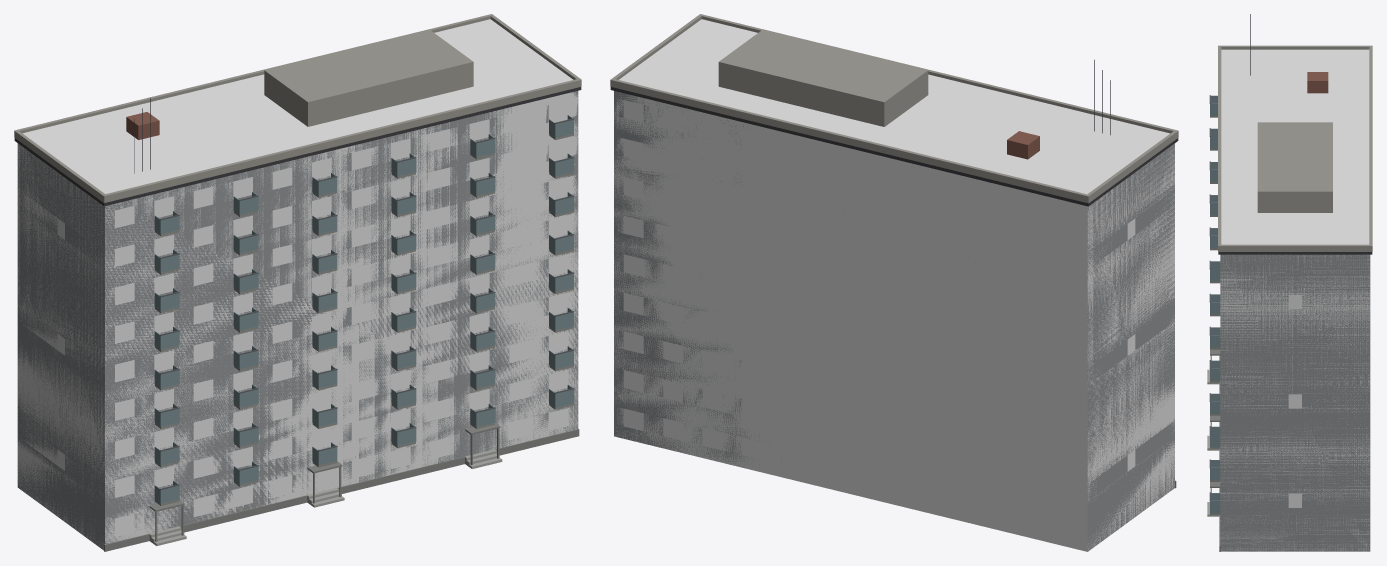
The model's file is panel9_b.glb.
3 views of the same model, side by side, from view 1: azimuth 30°, elevation 25°; view 2: azimuth 150°, elevation 25°; view 3: azimuth 270°, elevation 25° (orthographic). The views are drawn at different scales.
Visible parts, largest first — view 1: panel9_b-col, facade_front, facade_left, tech_floor, parapet_y, plinth, roof_slab, parapet_y.001, parapet_x, vent_stack; view 2: panel9_b-col, facade_left, facade_back, tech_floor, parapet_y.001, roof_slab, parapet_y, parapet_x, vent_stack; view 3: facade_right, panel9_b-col, tech_floor, parapet_x.001, parapet_y, parapet_y.001, parapet_x, vent_stack, roof_slab.
Part boxes in pixels (box(x1,y1,x2,y2)): panel9_b-col: box(17, 19, 578, 549); facade_front: box(105, 91, 578, 544); facade_left: box(17, 144, 104, 550); tech_floor: box(264, 30, 473, 126); parapet_y: box(103, 78, 581, 202); plinth: box(104, 429, 579, 551); roof_slab: box(14, 87, 581, 206); parapet_y.001: box(14, 14, 491, 133); parapet_x: box(14, 130, 106, 202); vent_stack: box(126, 112, 159, 139); panel9_b-col: box(614, 19, 1174, 551); facade_left: box(1087, 144, 1174, 551); facade_back: box(614, 91, 1082, 466); tech_floor: box(718, 30, 928, 126); parapet_y.001: box(610, 78, 1089, 203); roof_slab: box(610, 87, 1178, 206); parapet_y: box(700, 14, 1177, 133); parapet_x: box(1086, 130, 1178, 202); vent_stack: box(1007, 131, 1039, 159); facade_right: box(1220, 254, 1370, 551); panel9_b-col: box(1220, 49, 1370, 551); tech_floor: box(1257, 122, 1332, 212); parapet_x.001: box(1218, 244, 1372, 251); parapet_y: box(1218, 46, 1221, 251); parapet_y.001: box(1369, 46, 1372, 251); parapet_x: box(1218, 45, 1372, 49); vent_stack: box(1307, 72, 1328, 93); roof_slab: box(1218, 252, 1372, 254).
Bounding box in the file's own units: 36.35 × 30.9 × 12.67.
